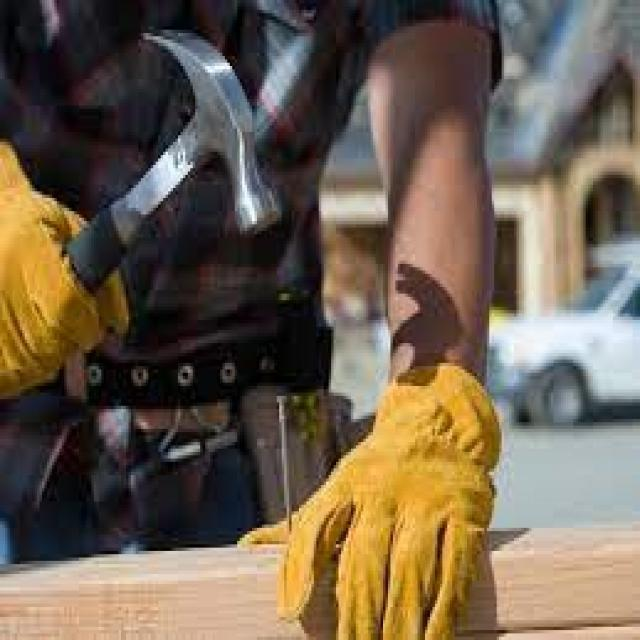Gloves: (237, 353, 504, 640)
Person: (0, 0, 495, 639)
